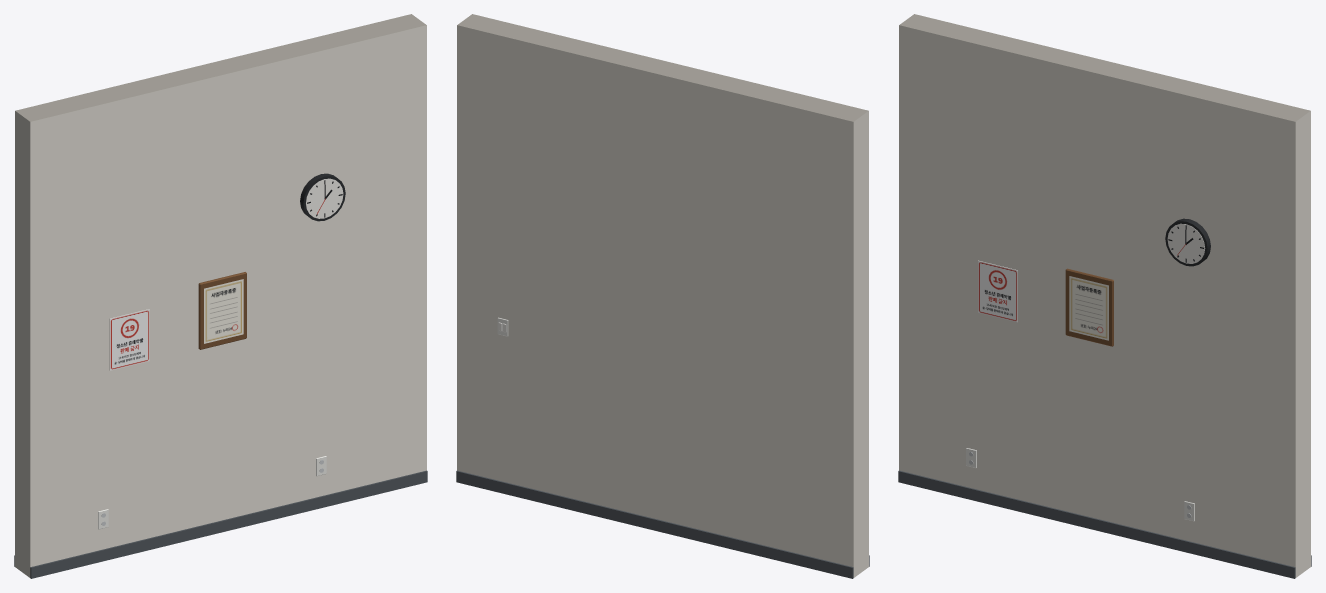
File: SC_Bld_Store_Wall_Interior_3m.gltf
3 views of the same model, side by side, from view 1: azimuth 30°, elevation 25°; view 2: azimuth 150°, elevation 25°; view 3: azimuth 330°, elevation 25° (orthographic).
Parts seen in each view (by area): view 1: SC_Bld_Store_Wall_Interior_3m; view 2: SC_Bld_Store_Wall_Interior_3m; view 3: SC_Bld_Store_Wall_Interior_3m.
Part boxes in pixels (x1=…): SC_Bld_Store_Wall_Interior_3m: x1=14, y1=14, x2=427, y2=578; SC_Bld_Store_Wall_Interior_3m: x1=456, y1=14, x2=869, y2=578; SC_Bld_Store_Wall_Interior_3m: x1=898, y1=14, x2=1311, y2=578.
Size of the model in its own units: 3 by 3.3 by 0.2705.
Materials: 2 (2 with a texture image).
